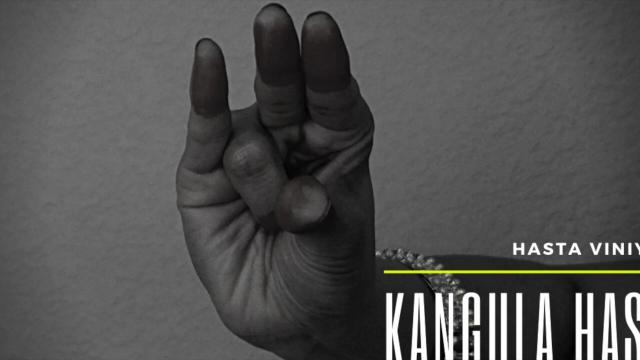kangul: (174, 6, 388, 360)
